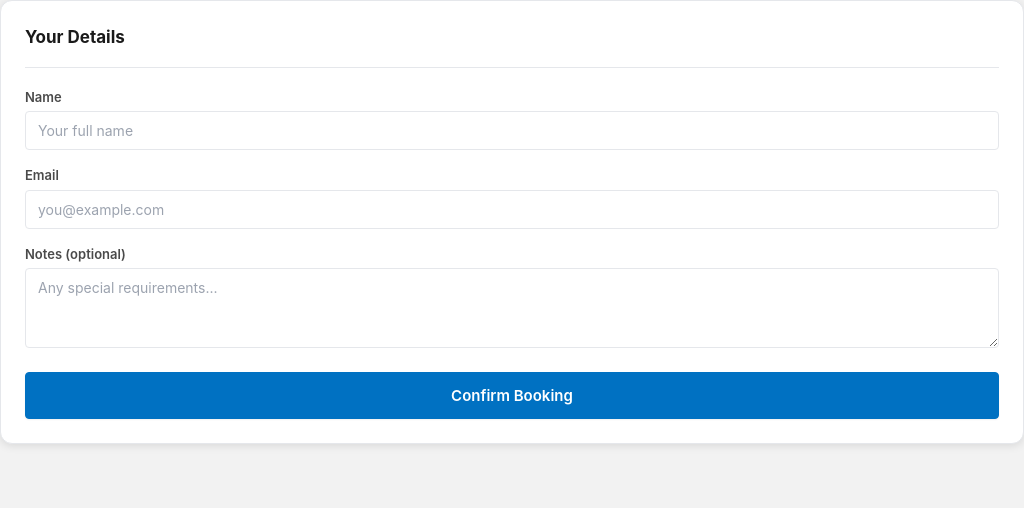
Scenario: CheckoutForm › shows "Name is required" when submitted without name
Click the button "Confirm Booking".
click(512, 396)  # box [25,372,999,419]
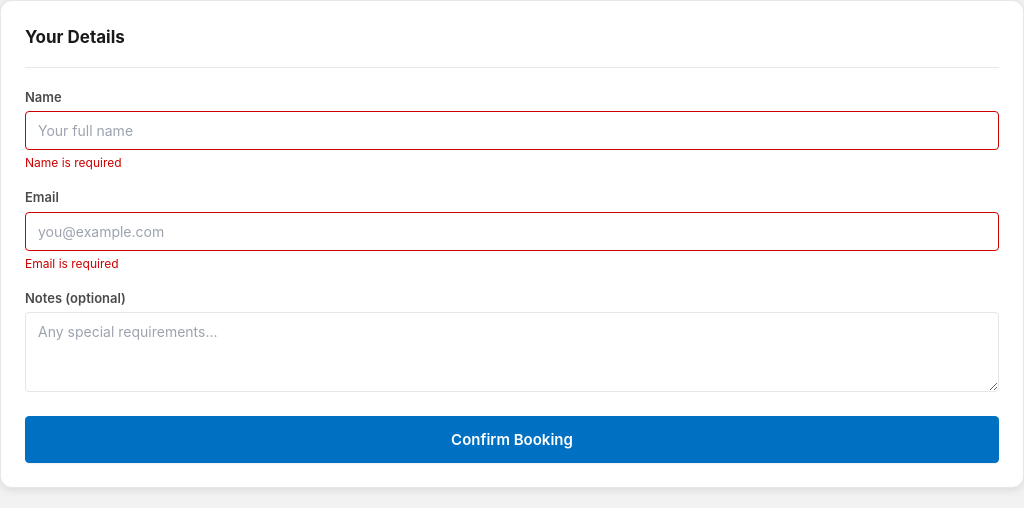
Now the text "Name is required" is shown, box [25,155,122,170]
